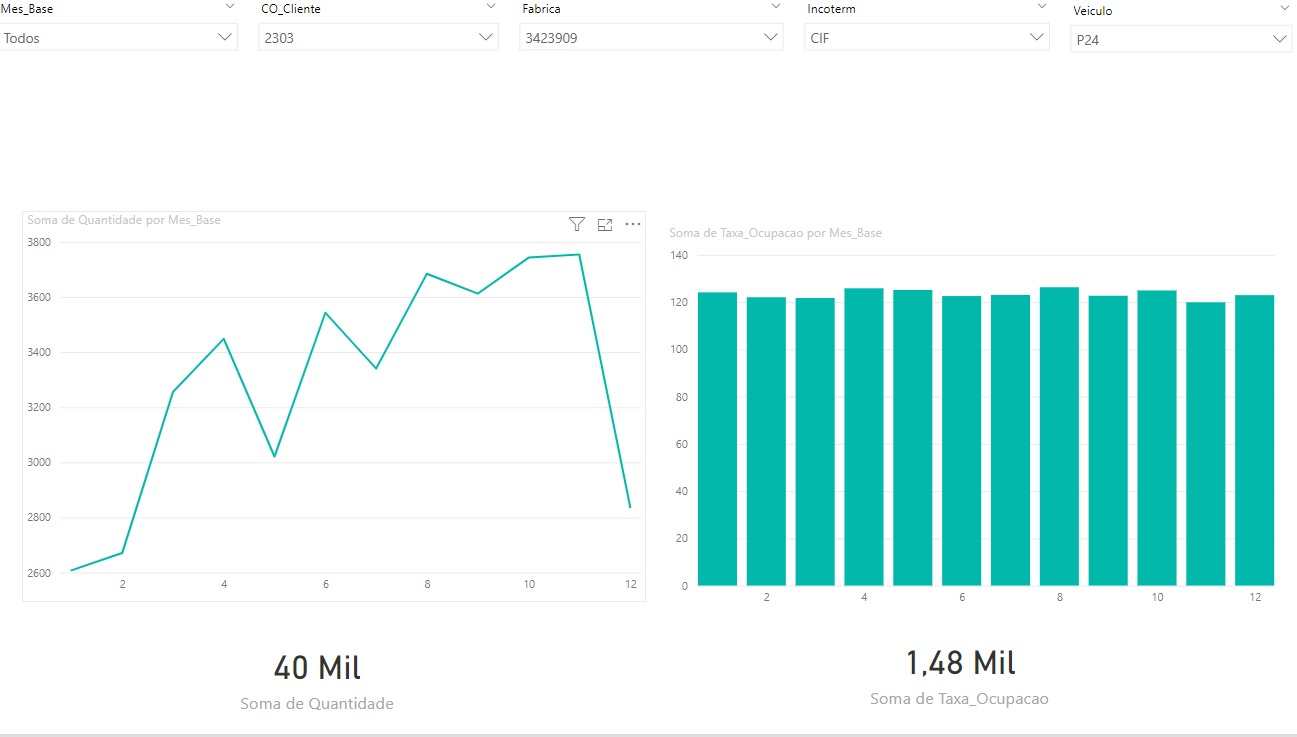

What the dashboard file says about the page in this screenshot:
{"tool":"powerbi","page":{"name":"Página 2","canvas":[1280,720],"ordinal":1},"visuals":[{"type":"lineChart","fields":{"Category":["api custototalcif.Mes_Base"],"Y":["Sum(api quantidademensalveiculos.Quantidade)"]},"box":[34,210.8,606.5,380.7],"z":0},{"type":"card","fields":{"Values":["Sum(api quantidademensalveiculos.Quantidade)"]},"box":[82.9,604.5,476.6,115.9],"z":1},{"type":"slicer","fields":{"Values":["api custototalcif.Mes_Base"]},"box":[0,0,253.9,70],"z":2},{"type":"slicer","fields":{"Values":["api view_rota.CO_Cliente"]},"box":[253.9,0,253.9,72],"z":3},{"type":"slicer","fields":{"Values":["api view_fabrica.Fabrica"]},"box":[507.7,0,277.2,65.2],"z":4},{"type":"slicer","fields":{"Values":["api view_rota.Incoterm"]},"box":[784.9,0,258.7,61.3],"z":5},{"type":"slicer","fields":{"Values":["api ocupacaomensalveiculos.Veiculo"]},"box":[1043.6,1.9,236.4,63.2],"z":6},{"type":"clusteredColumnChart","fields":{"Category":["api custototalcif.Mes_Base"],"Y":["Sum(api ocupacaomensalveiculos.Taxa_Ocupacao)"]},"box":[658.5,223.8,598.5,380.7],"z":7},{"type":"card","fields":{"Values":["Sum(api ocupacaomensalveiculos.Taxa_Ocupacao)"]},"box":[646.5,604.5,598.5,105.9],"z":8}]}

Visuals, with their boxes in screenshot pixels (x1, y1, x2, y2), scaled from the page's 1280x720 canvas onto the 1297x737 screenshot:
lineChart - api custototalcif.Mes_Base x Sum(api quantidademensalveiculos.Quantidade): region(34, 216, 649, 605)
card - Sum(api quantidademensalveiculos.Quantidade): region(84, 619, 567, 736)
slicer - api custototalcif.Mes_Base: region(0, 0, 257, 72)
slicer - api view_rota.CO_Cliente: region(257, 0, 515, 74)
slicer - api view_fabrica.Fabrica: region(514, 0, 795, 67)
slicer - api view_rota.Incoterm: region(795, 0, 1057, 63)
slicer - api ocupacaomensalveiculos.Veiculo: region(1057, 2, 1296, 67)
clusteredColumnChart - api custototalcif.Mes_Base x Sum(api ocupacaomensalveiculos.Taxa_Ocupacao): region(667, 229, 1274, 619)
card - Sum(api ocupacaomensalveiculos.Taxa_Ocupacao): region(655, 619, 1262, 727)
